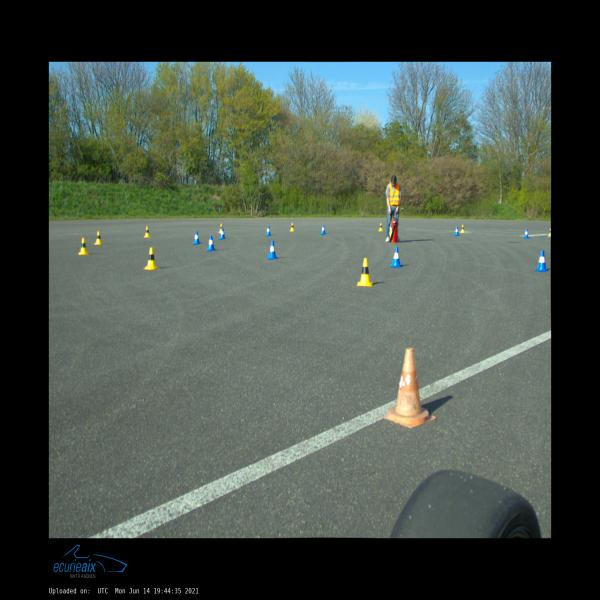blue_cone: (535, 250, 548, 271), (390, 247, 403, 267), (266, 240, 278, 259), (207, 235, 216, 251), (193, 231, 200, 244), (219, 228, 226, 239), (320, 224, 326, 235), (265, 226, 272, 235), (524, 229, 530, 239), (454, 226, 459, 236)
unknown_cone: (382, 348, 436, 428)
yellow_cone: (357, 258, 373, 286), (144, 248, 159, 270), (78, 238, 89, 255), (94, 231, 102, 244), (144, 226, 150, 237), (289, 222, 295, 232), (218, 223, 222, 233), (379, 223, 383, 231), (461, 225, 464, 233)
